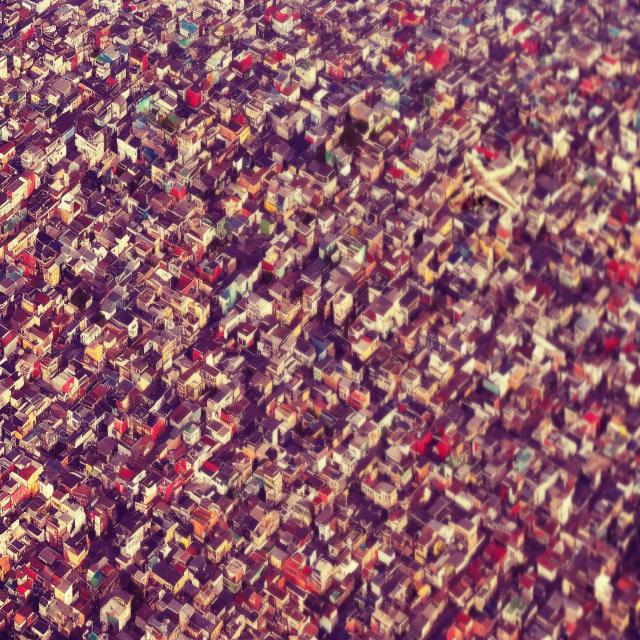airplane: (463, 144, 528, 212)
